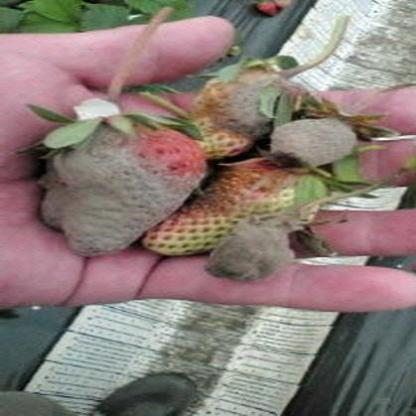Strawberry_Gray_Mold: (37, 116, 209, 258), (143, 158, 301, 246), (186, 63, 325, 160), (203, 204, 306, 282), (270, 115, 358, 170)
